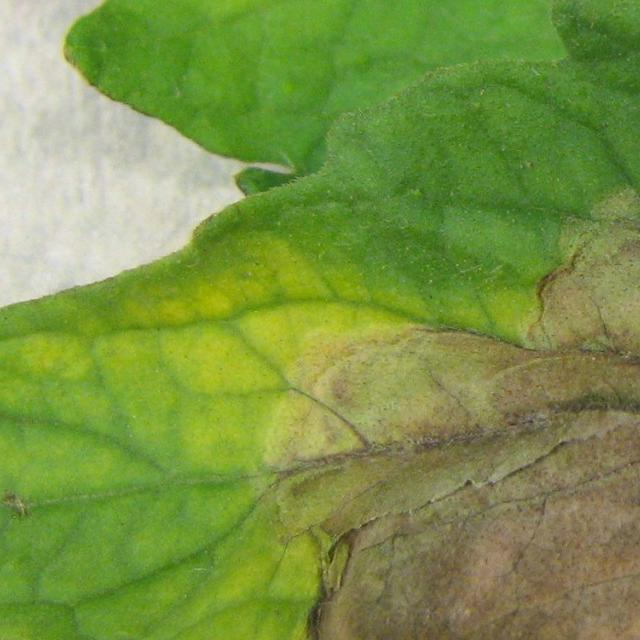Tomato leaf late blight: (0, 0, 640, 640), (0, 0, 640, 111)
